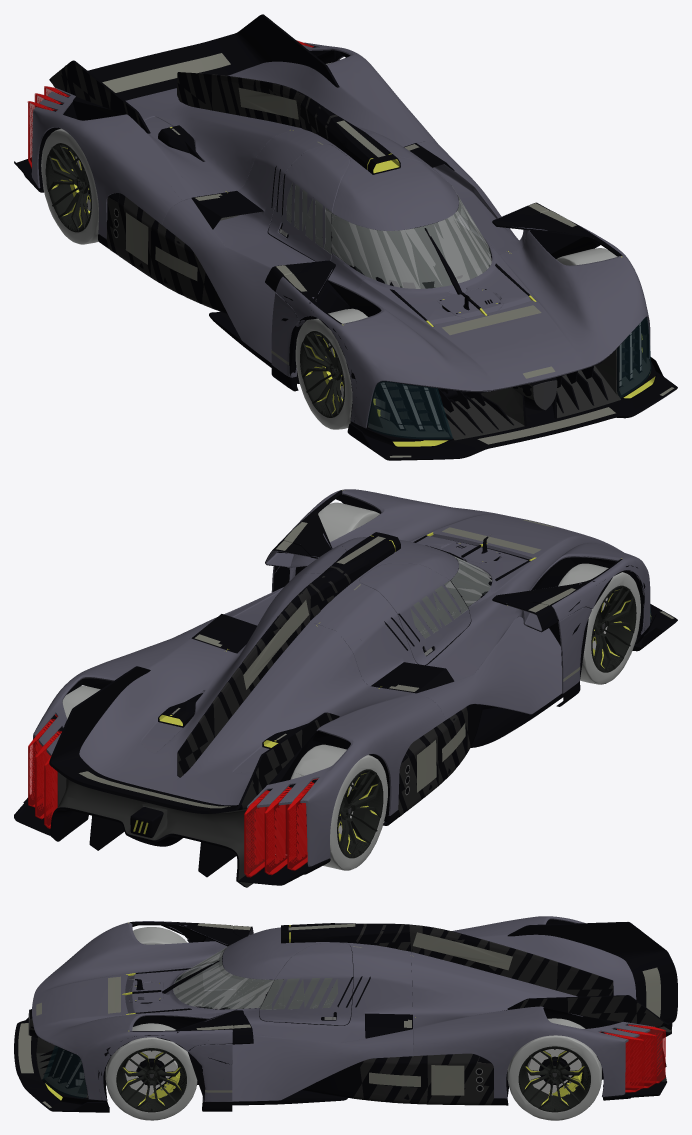
File: peugeot-9x8.glb
The picture shows the model from 3 angles, top to bottom: view 1: azimuth 30°, elevation 25°; view 2: azimuth 150°, elevation 25°; view 3: azimuth 270°, elevation 25°; orthographic projection. The views are drawn at different scales.
Parts seen in each view (by area): view 1: BODY, GLASS, WHEEL_RF, WHEEL_RR, WHEEL_LF; view 2: BODY, GLASS, WHEEL_RR, WHEEL_RF, WHEEL_LF; view 3: BODY, GLASS, WHEEL_LR, WHEEL_LF, WHEEL_RF.
Part boxes in pixels (x1,y1,x2,y2): BODY: [14, 14, 677, 460]; GLASS: [27, 40, 651, 438]; WHEEL_RF: [295, 308, 367, 429]; WHEEL_RR: [41, 128, 98, 244]; WHEEL_LF: [556, 248, 617, 265]; BODY: [14, 489, 677, 887]; GLASS: [28, 555, 651, 877]; WHEEL_RR: [290, 744, 387, 870]; WHEEL_RF: [558, 563, 640, 684]; WHEEL_LF: [318, 502, 379, 541]; BODY: [14, 916, 677, 1112]; GLASS: [43, 945, 665, 1097]; WHEEL_LR: [507, 1018, 601, 1120]; WHEEL_LF: [105, 1023, 197, 1120]; WHEEL_RF: [133, 927, 187, 944].
Bounding box in the file's own units: 2.04 × 1.18 × 4.99.
